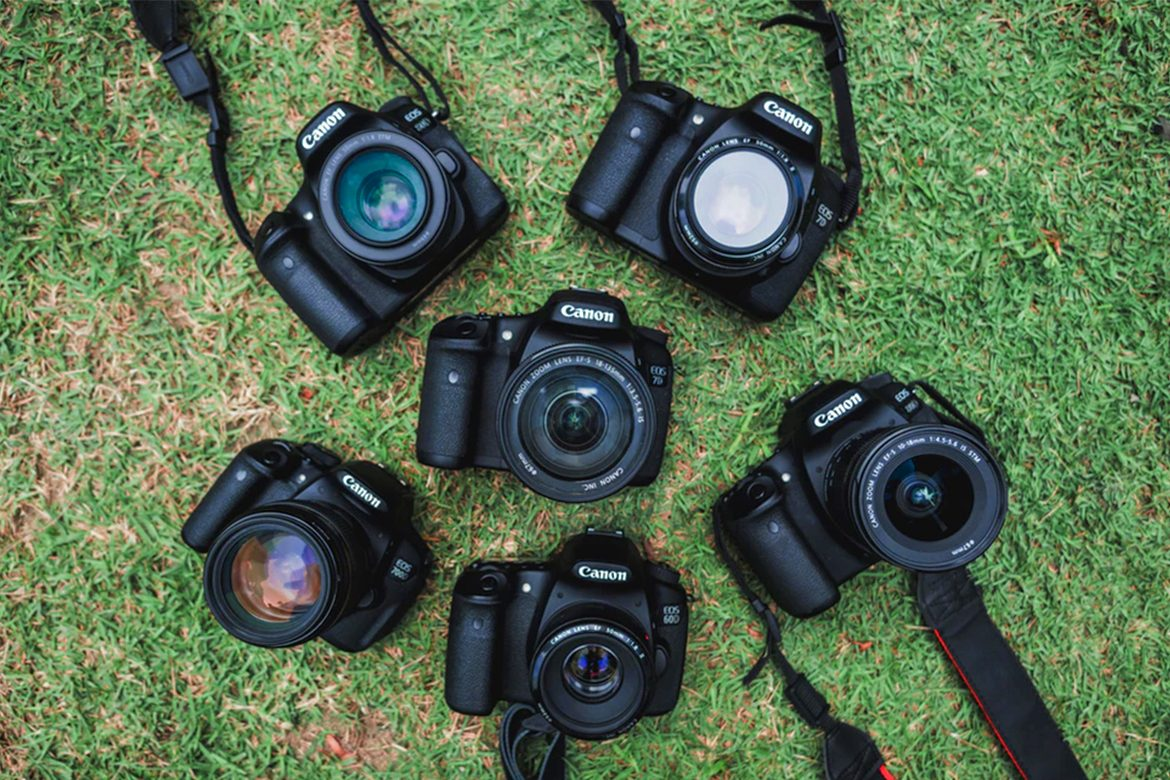camera: (571, 91, 848, 306), (719, 384, 1008, 587), (180, 443, 415, 637), (258, 108, 477, 310), (428, 296, 664, 482), (461, 538, 678, 715)
